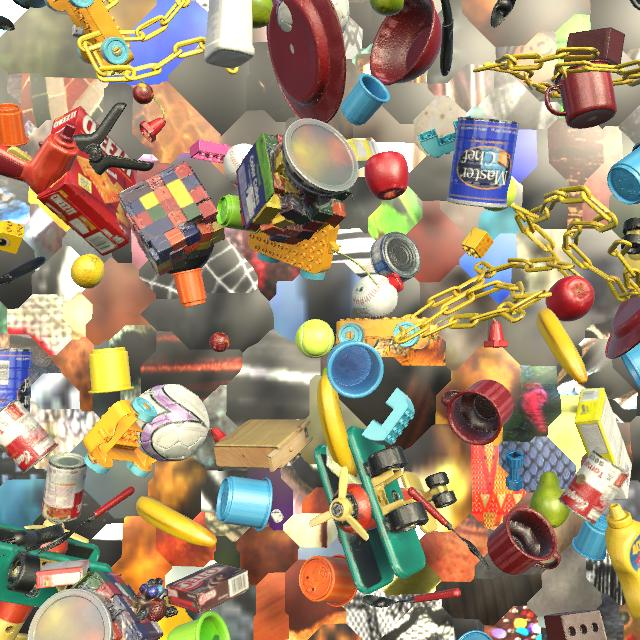ycb_002_master_chef_can: (447, 117, 520, 208), (0, 348, 34, 412)
ycb_003_cracker_box: (37, 106, 137, 256)
ycb_004_sugar_box: (574, 387, 632, 500), (347, 139, 379, 169)
ycb_005_tomato_soup_can: (558, 450, 629, 525), (0, 399, 58, 474), (41, 453, 87, 522)
ycb_006_mustard_bottle: (605, 503, 640, 619)
ycb_007_tuna_fish_can: (370, 232, 421, 283), (630, 0, 640, 11)
ycb_008_pudding_box: (166, 563, 249, 614)
ycb_009_gelatin_box: (36, 559, 90, 589)
ycb_011_banana: (317, 367, 357, 477), (136, 496, 217, 547), (535, 308, 588, 384)
ycb_012_strawberry: (338, 534, 342, 545)
ycb_013_apple: (545, 276, 595, 322), (364, 151, 409, 200)
ycb_014_lemon: (71, 254, 104, 289)
ycb_016_pear: (529, 471, 570, 528), (252, 0, 273, 29), (369, 0, 404, 16)
